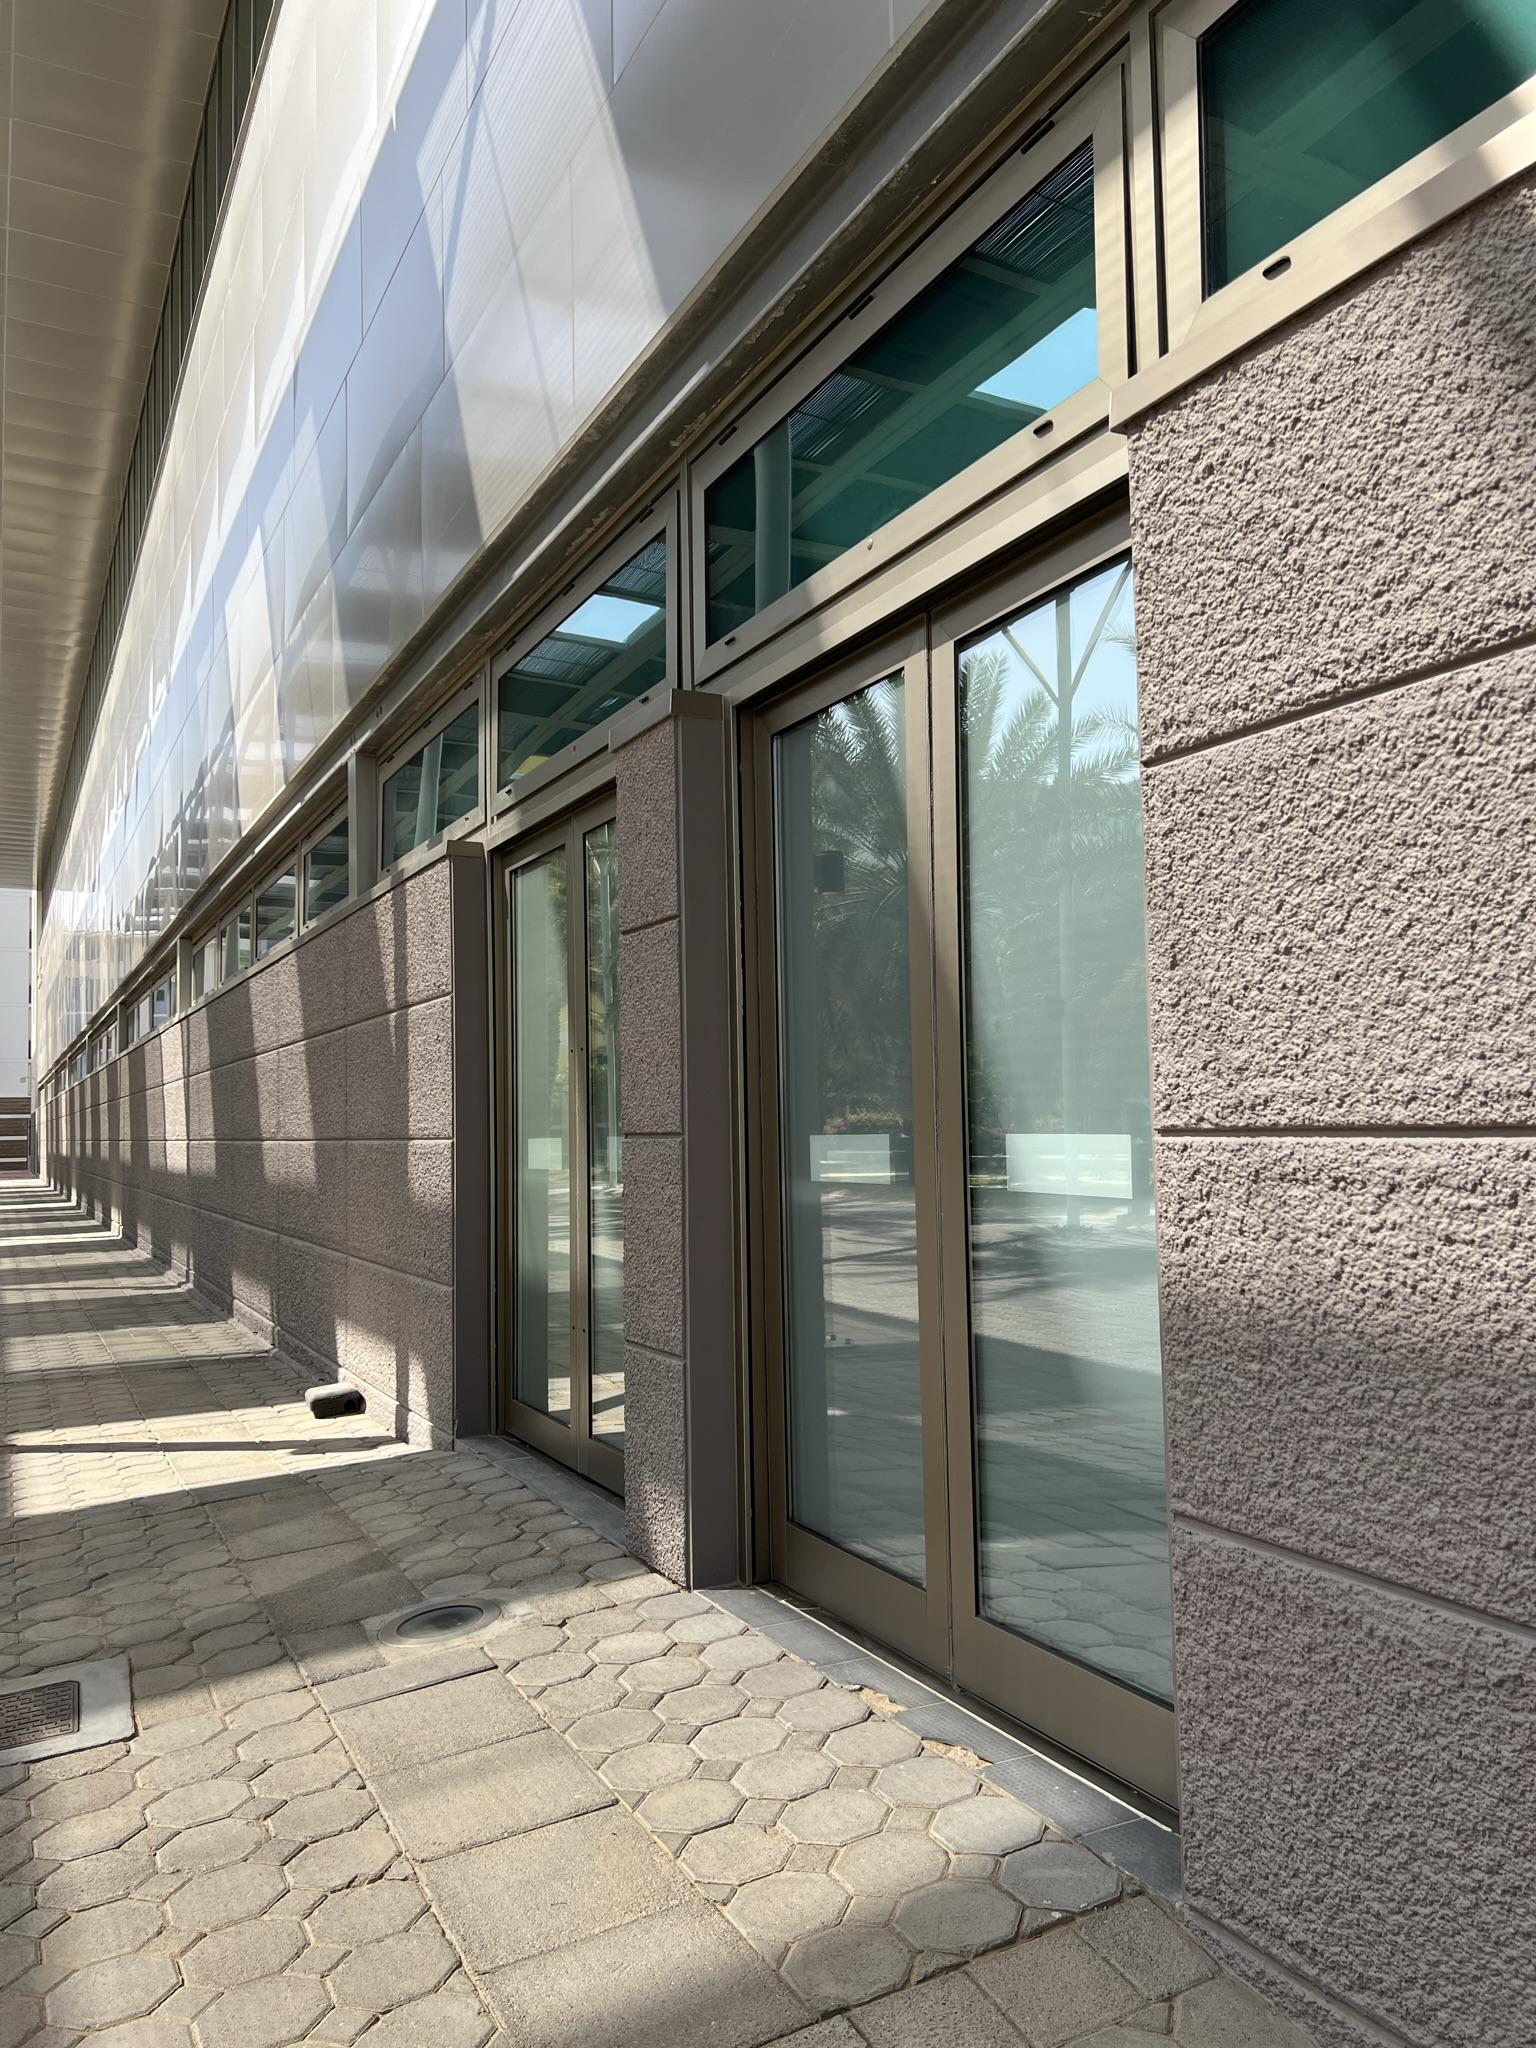door: (952, 566, 1205, 1801), (742, 671, 949, 1674), (482, 826, 600, 1482)
